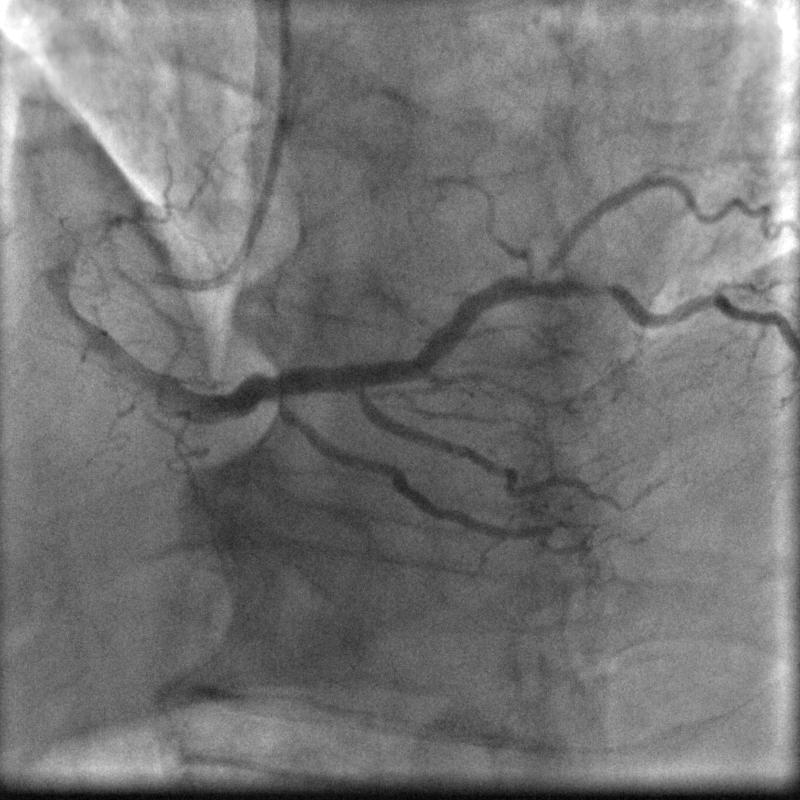Stenosis: (559, 274, 620, 305)
